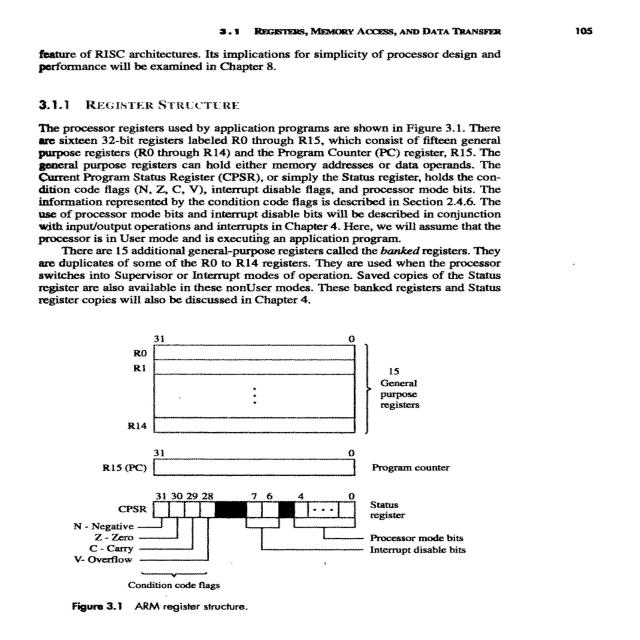diagram: (52, 327, 489, 640)
